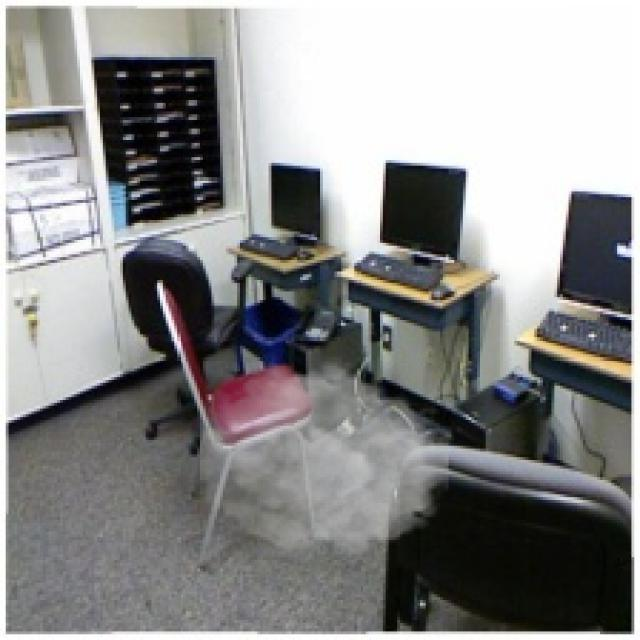smoke: (200, 354, 449, 566)
